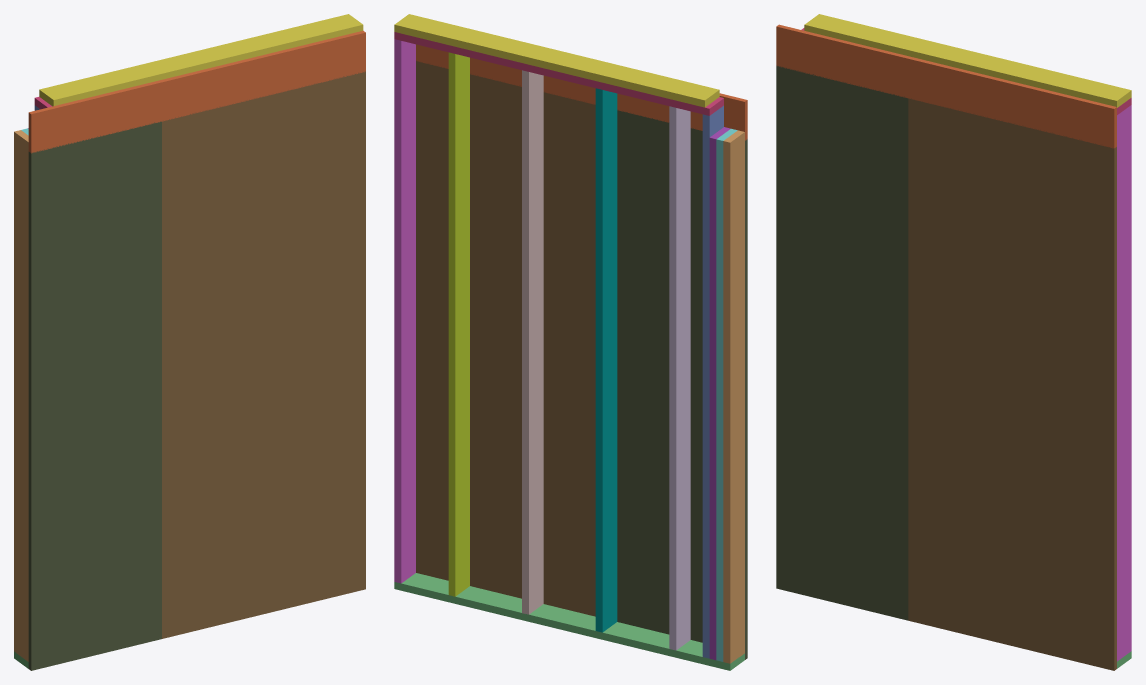
3 views of the same model, side by side, from view 1: azimuth 30°, elevation 25°; view 2: azimuth 150°, elevation 25°; view 3: azimuth 330°, elevation 25° (orthographic).
Parts seen in each view (by area): view 1: world; view 2: world; view 3: world.
Part boxes in pixels (bbox=[...]): world: bbox=[14, 14, 365, 670]; world: bbox=[394, 14, 747, 670]; world: bbox=[776, 14, 1131, 670].
Bounding box in the file's own units: 73 × 117 × 6.5.
